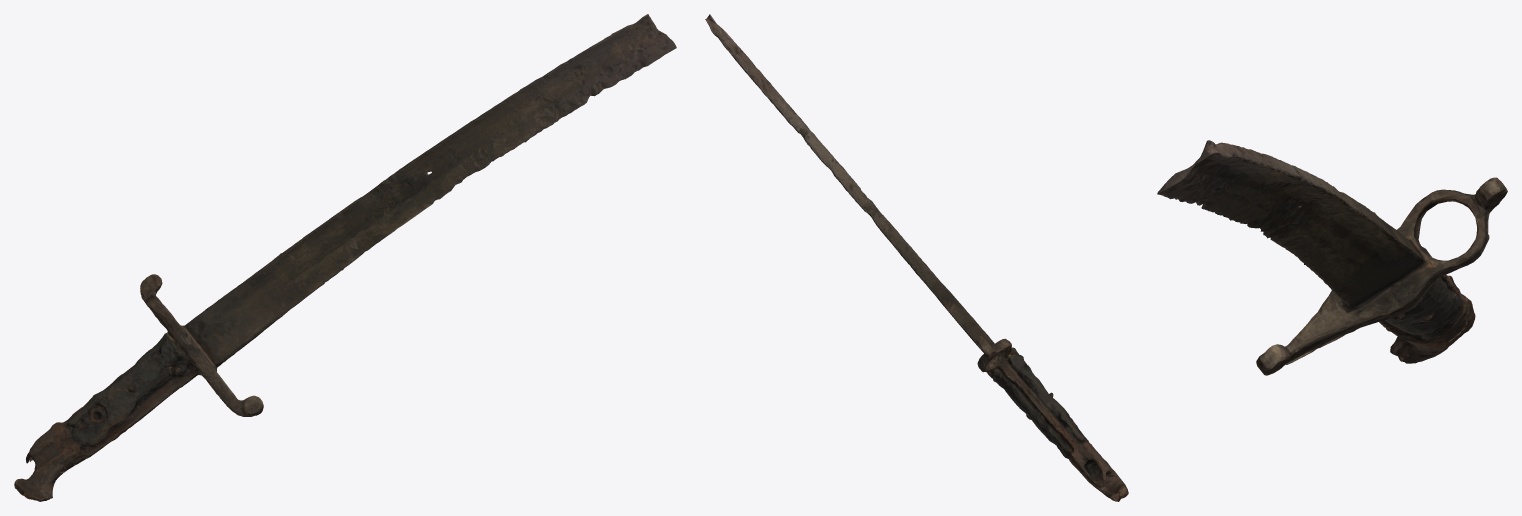
File: macisko.obj
3 renders of one model, left to right at view 1: azimuth 30°, elevation 25°; view 2: azimuth 150°, elevation 25°; view 3: azimuth 270°, elevation 25°, orthographic. The views are drawn at different scales.
Parts seen in each view (by area): view 1: Model; view 2: Model; view 3: Model.
Part boxes in pixels (x1,y1,x2,y2): Model: [14, 14, 676, 501]; Model: [705, 14, 1128, 501]; Model: [1157, 140, 1507, 375].
Bounding box in the file's own units: 2.24 × 1.48 × 0.7018.
Materials: 1 (1 with a texture image).
